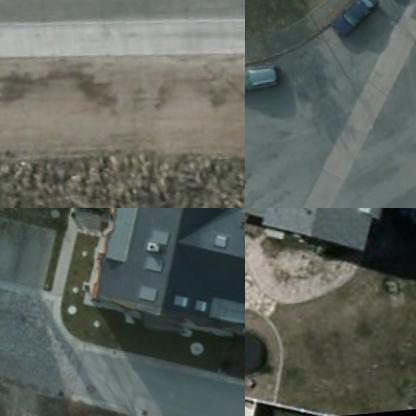car: (322, 0, 382, 36), (245, 58, 278, 92)
